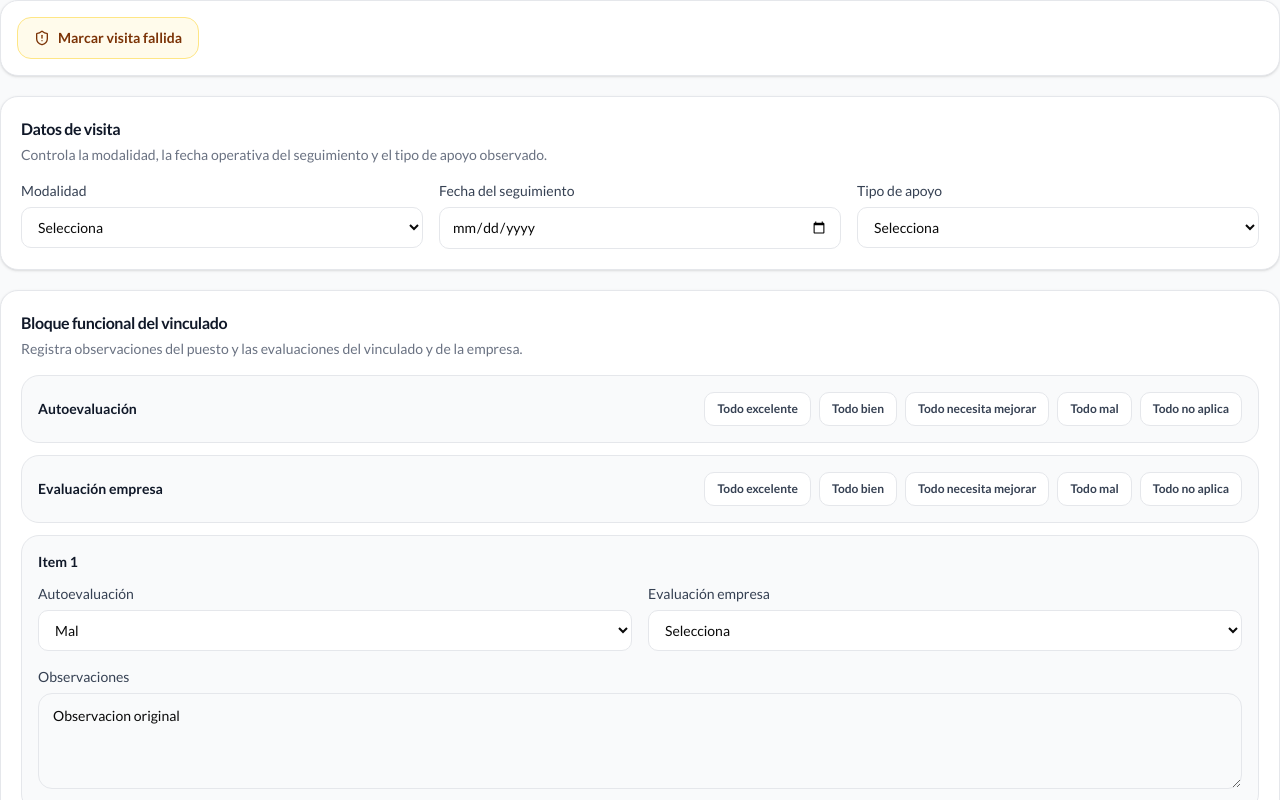
Scenario: SeguimientosFollowupStageEditor › applies a bulk value to all autoevaluacion fields without touching observations
The image size is (1280, 800).
What coordinates should you click on to do the following:
click the button with test id "seguimientos-followup-bulk-item_autoevaluacion-excelente"
I would click on:
 (758, 409)
Its box is x1=704 y1=392 x2=811 y2=426.
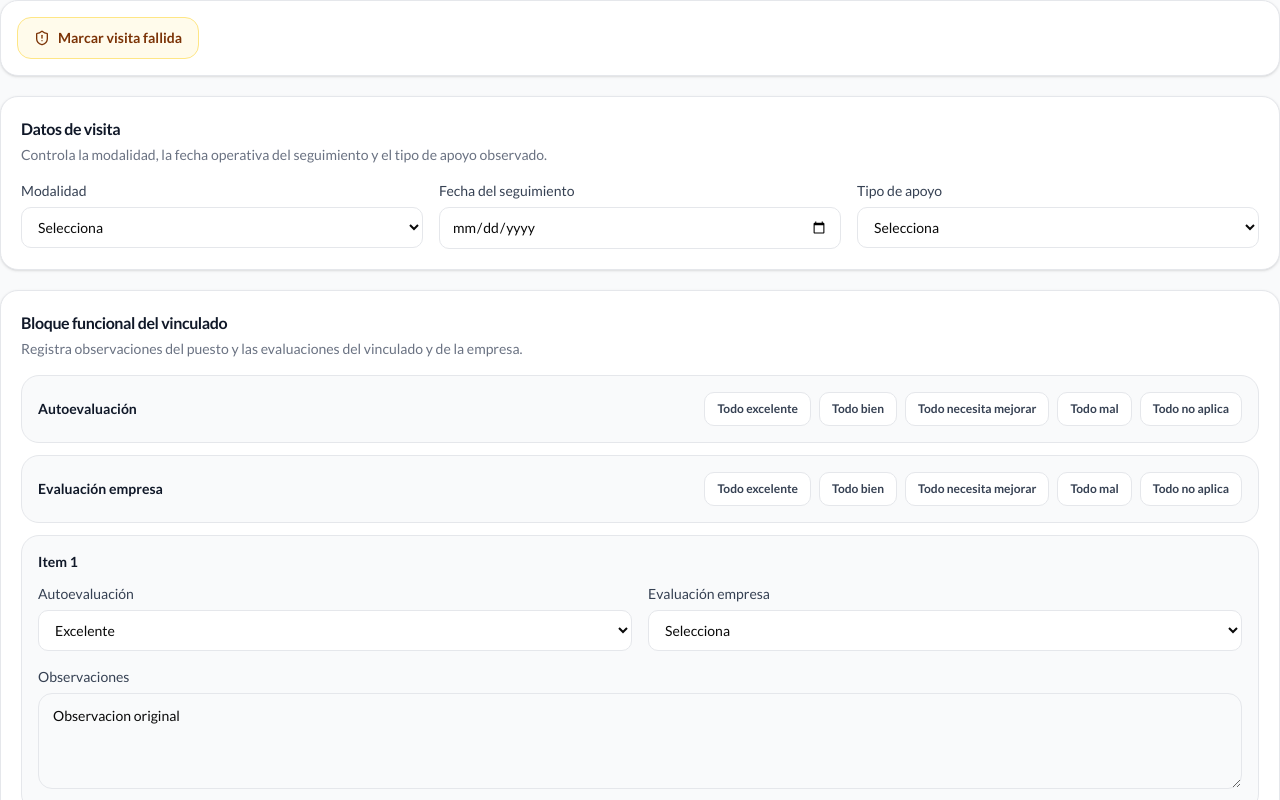
Expected: the text box with id "item_observaciones" holds "Observacion original", x1=38 y1=693 x2=1242 y2=789
Expected: the dropdown with id "item_autoevaluacion" shows "Excelente", x1=38 y1=610 x2=632 y2=651
